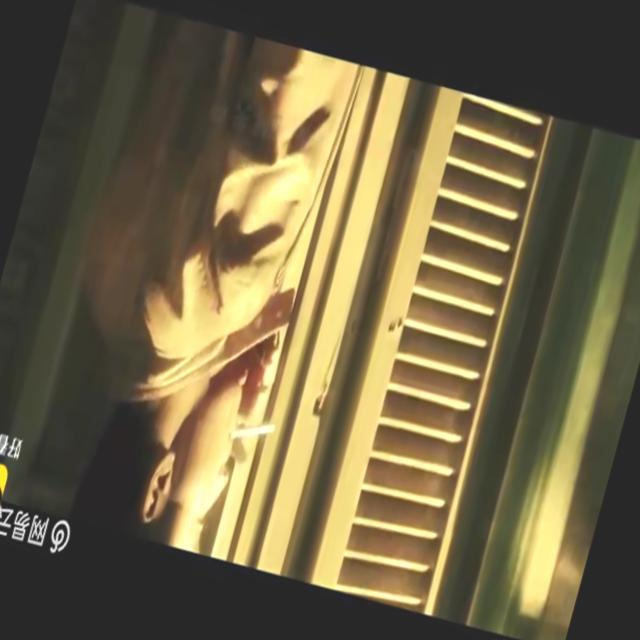cigarette: (228, 410, 277, 451)
